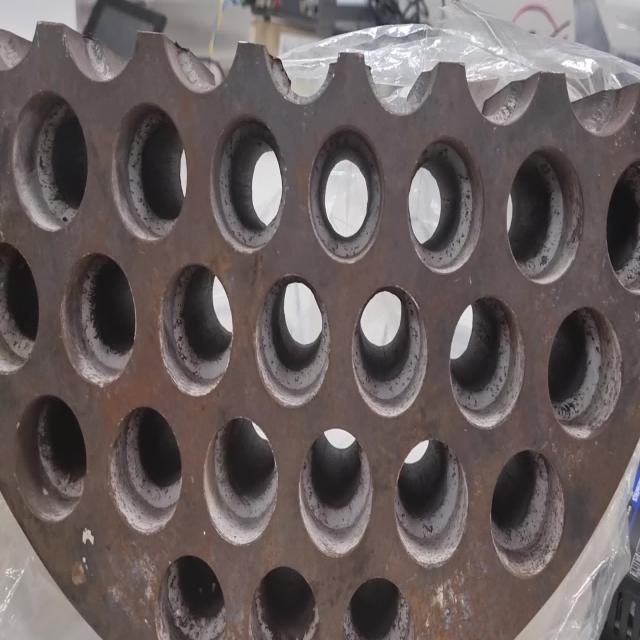Hole: (9, 90, 89, 232), (504, 146, 584, 284), (110, 101, 187, 242), (406, 136, 484, 274), (210, 114, 286, 253), (308, 123, 382, 265), (448, 294, 526, 428), (253, 273, 330, 408), (60, 251, 136, 387), (351, 284, 428, 418), (158, 262, 234, 397), (489, 448, 566, 580), (297, 427, 373, 558), (202, 415, 278, 546), (394, 437, 469, 569), (108, 404, 183, 536), (548, 306, 622, 439), (13, 393, 88, 523), (156, 552, 227, 640), (248, 564, 320, 640), (0, 239, 40, 375), (605, 154, 639, 294), (344, 575, 414, 640)
